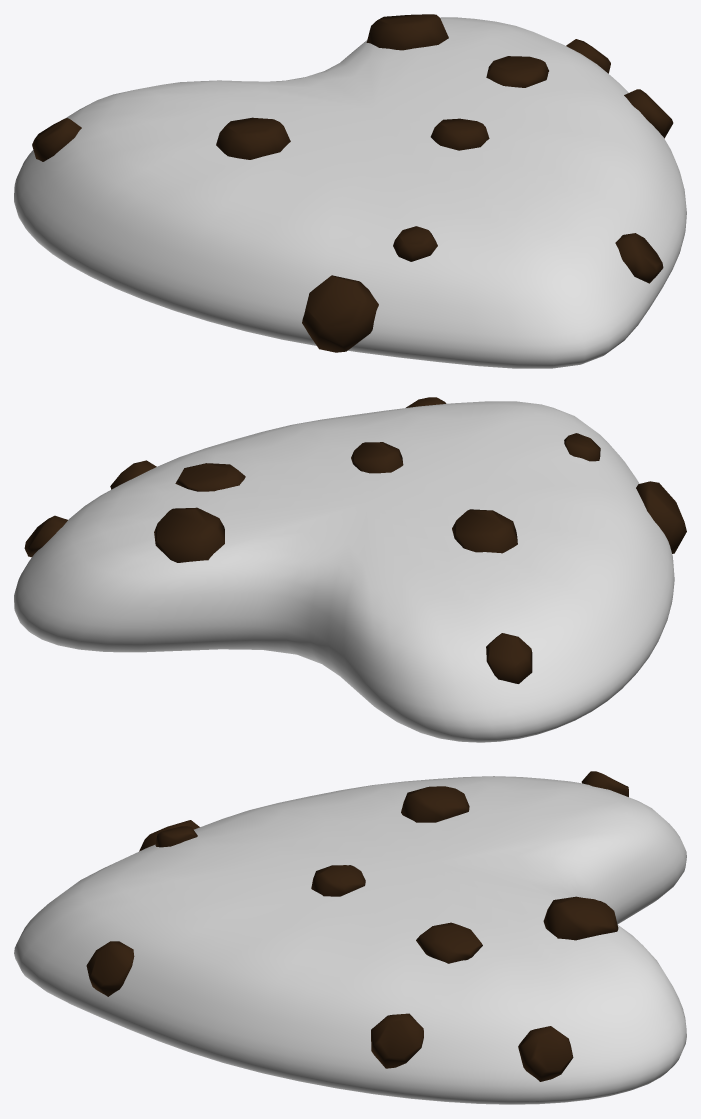
Rendered from Cookie2.fbx.
3 views of the same model, one above another, from view 1: azimuth 30°, elevation 25°; view 2: azimuth 150°, elevation 25°; view 3: azimuth 270°, elevation 25° (orthographic).
Visible parts, largest first — view 1: HeartCookie2, ChocolateChip.011, ChocolateChip.012, ChocolateChip.010, ChocolateChip.018, ChocolateChip.016, ChocolateChip.013, ChocolateChip.009, ChocolateChip.015, ChocolateChip.014, ChocolateChip.017; view 2: HeartCookie2, ChocolateChip.010, ChocolateChip.012, ChocolateChip.009, ChocolateChip.011, ChocolateChip.018, ChocolateChip.013, ChocolateChip.017, ChocolateChip.015; view 3: HeartCookie2, ChocolateChip.010, ChocolateChip.014, ChocolateChip.017, ChocolateChip.012, ChocolateChip.018, ChocolateChip.016, ChocolateChip.013, ChocolateChip.015, ChocolateChip.009.
Part boxes in pixels (box(x1,y1,x2,y2)): HeartCookie2: box(14, 17, 686, 368); ChocolateChip.011: box(302, 275, 378, 352); ChocolateChip.012: box(216, 117, 290, 159); ChocolateChip.010: box(366, 14, 448, 50); ChocolateChip.018: box(486, 56, 548, 87); ChocolateChip.016: box(615, 233, 663, 283); ChocolateChip.013: box(430, 118, 489, 150); ChocolateChip.009: box(32, 118, 81, 161); ChocolateChip.015: box(393, 226, 437, 261); ChocolateChip.014: box(624, 89, 673, 138); ChocolateChip.017: box(566, 39, 610, 73); HeartCookie2: box(14, 401, 674, 742); ChocolateChip.010: box(154, 507, 224, 562); ChocolateChip.012: box(452, 509, 517, 553); ChocolateChip.009: box(486, 633, 532, 683); ChocolateChip.011: box(636, 481, 686, 553); ChocolateChip.018: box(175, 463, 245, 491); ChocolateChip.013: box(351, 442, 403, 473); ChocolateChip.017: box(24, 515, 67, 557); ChocolateChip.015: box(564, 433, 600, 461); HeartCookie2: box(14, 776, 686, 1104); ChocolateChip.010: box(543, 896, 618, 940); ChocolateChip.014: box(371, 1013, 423, 1068); ChocolateChip.017: box(518, 1026, 573, 1081); ChocolateChip.012: box(401, 786, 469, 822); ChocolateChip.018: box(416, 922, 482, 963); ChocolateChip.016: box(86, 941, 134, 996); ChocolateChip.013: box(311, 865, 365, 896); ChocolateChip.015: box(155, 826, 197, 847); ChocolateChip.009: box(581, 771, 628, 796).
Size of the model in its own units: 131 by 27.68 by 133.
